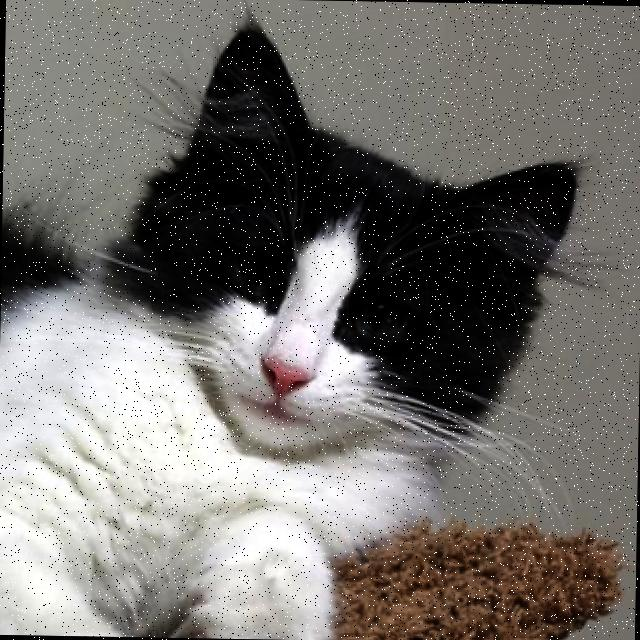Happy: (174, 186, 436, 465)
